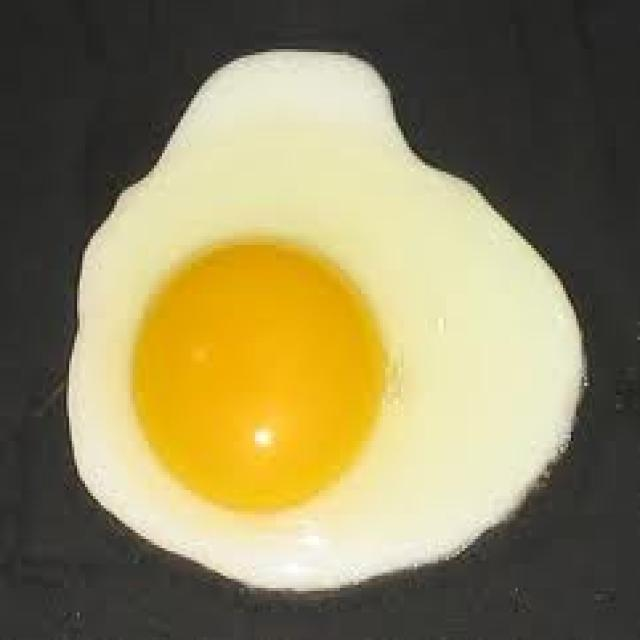Egg: (32, 19, 619, 612)
